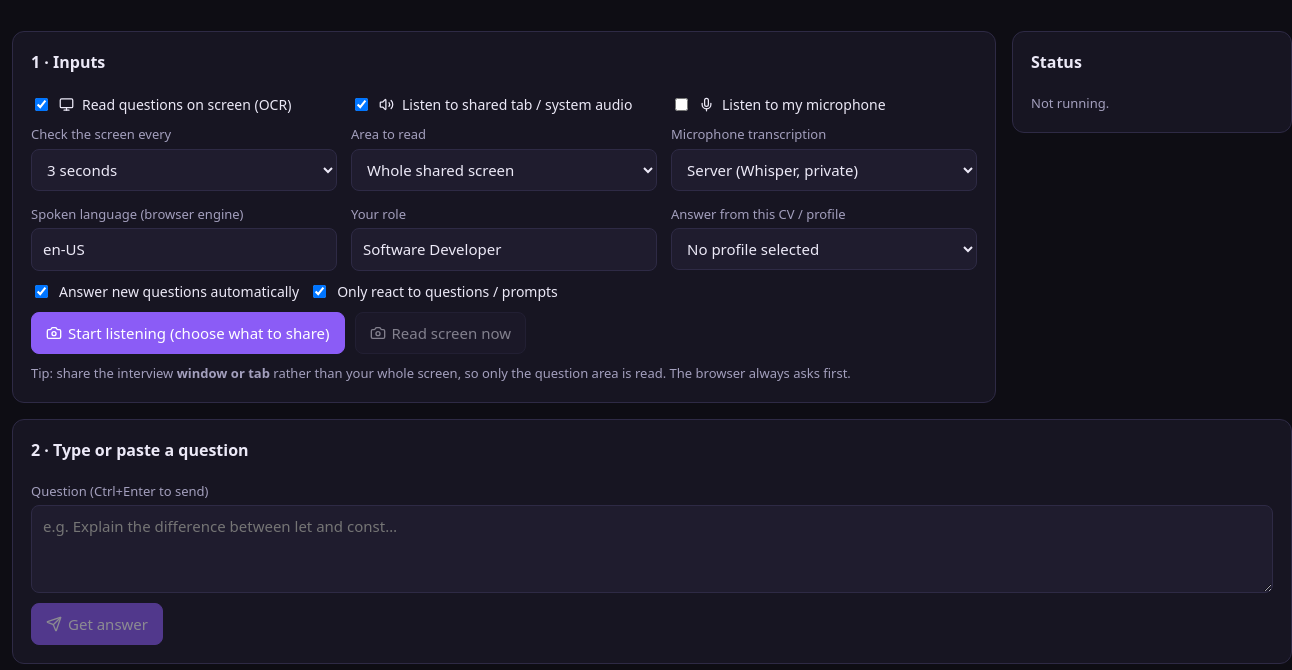
Test case: Live copilot (web) › waits out a busy model and retries instead of showing an error
This screenshot has width=1292, height=670.
Type "Describe how HTTP caching works." into the text box with placeholder "e.g. Explain the difference between let and const…" at (652, 549), box [31, 505, 1273, 592]
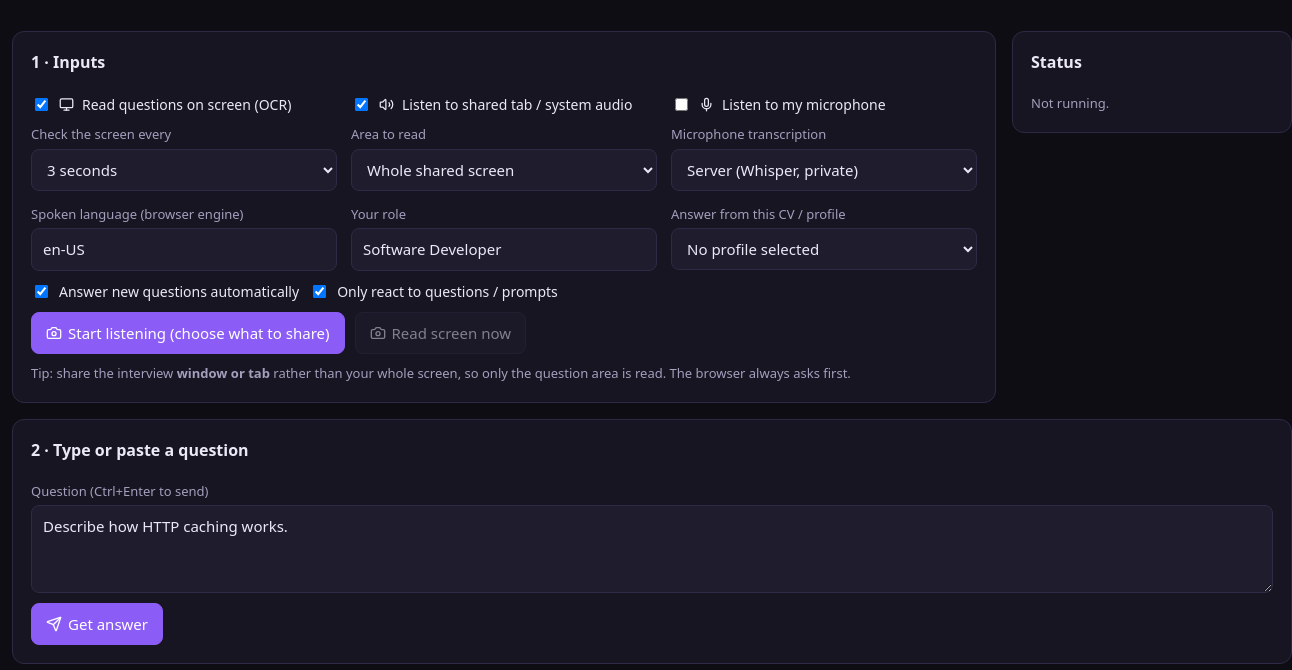
Click the button "Get answer" at (97, 624), box [31, 602, 163, 645]
Wait 4000 ms
(page scrolled)
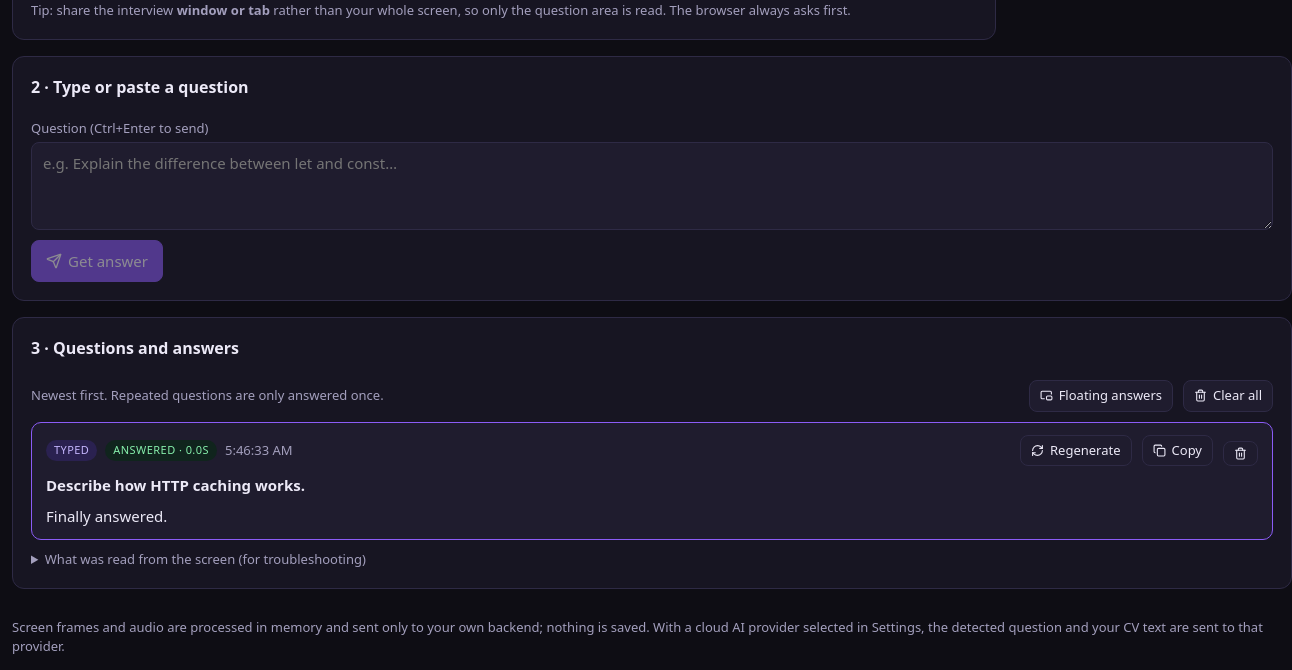
Result: the text "Finally answered." is shown at [46, 506, 167, 526]
